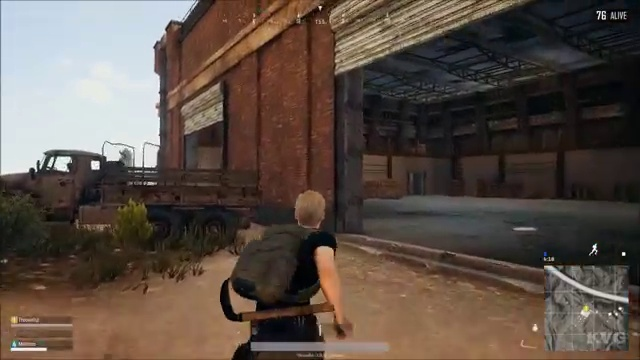Player: (201, 194, 388, 318)
